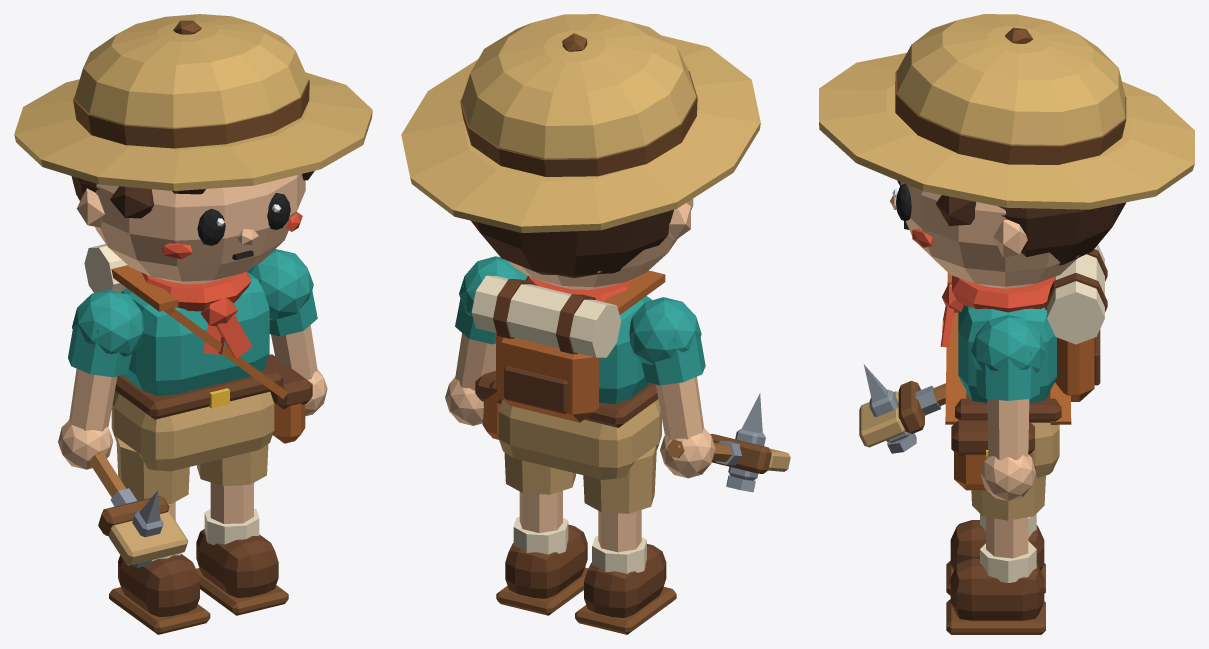
File: digger.glb
3 renders of one model, left to right at view 1: azimuth 30°, elevation 25°; view 2: azimuth 150°, elevation 25°; view 3: azimuth 270°, elevation 25°, orthographic.
Visible parts, largest first — view 1: Head, Torso, LegL, ArmR, LegR, ArmL, Brush, Chisel; view 2: Head, Torso, LegR, LegL, ArmR, ArmL, Brush, Chisel; view 3: Head, Torso, LegL, ArmL, Brush, LegR, Chisel.
Boxes of the visible parts, left/top/right/bottom form: Head: left=14, top=14, right=372, bottom=284; Torso: left=84, top=244, right=312, bottom=471; LegL: left=196, top=444, right=288, bottom=615; ArmR: left=58, top=289, right=143, bottom=469; LegR: left=109, top=438, right=210, bottom=634; ArmL: left=247, top=249, right=327, bottom=416; Brush: left=68, top=420, right=188, bottom=565; Chisel: left=90, top=452, right=163, bottom=567; Head: left=401, top=14, right=760, bottom=289; Torso: left=471, top=270, right=665, bottom=479; LegR: left=575, top=446, right=676, bottom=634; LegL: left=496, top=452, right=588, bottom=615; ArmR: left=629, top=297, right=715, bottom=478; ArmL: left=445, top=256, right=527, bottom=425; Brush: left=667, top=434, right=790, bottom=473; Chisel: left=680, top=393, right=765, bottom=492; Head: left=819, top=14, right=1194, bottom=288; Torso: left=940, top=244, right=1107, bottom=490; LegL: left=946, top=474, right=1045, bottom=634; ArmL: left=971, top=315, right=1045, bottom=500; Brush: left=859, top=381, right=945, bottom=447; LegR: left=946, top=514, right=1045, bottom=595; Chisel: left=863, top=364, right=945, bottom=453.
Size of the model in its own units: 0.584 by 1.05 by 0.6216.
